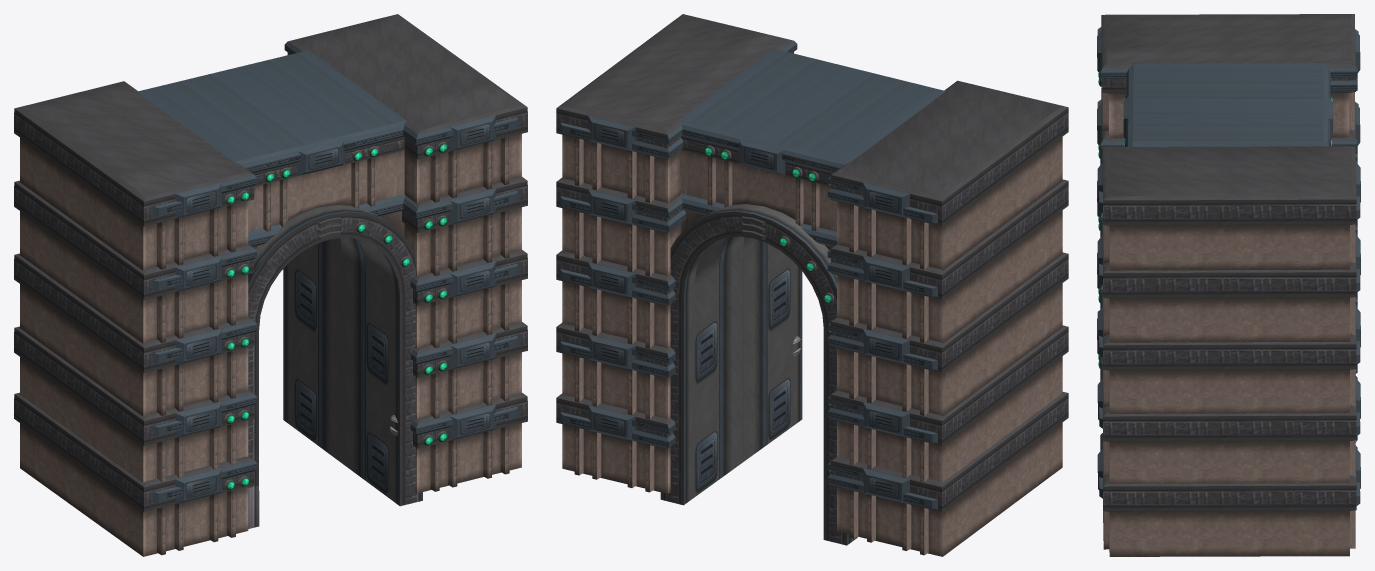
The model's file is portico.glb.
The picture shows the model from 3 angles, left to right: view 1: azimuth 30°, elevation 25°; view 2: azimuth 150°, elevation 25°; view 3: azimuth 270°, elevation 25°; orthographic projection.
Parts seen in each view (by area): view 1: Object_Ties.005; view 2: Object_Ties.005; view 3: Object_Ties.005.
Part boxes in pixels (box(x1,y1,x2,y2)): Object_Ties.005: box(14, 14, 527, 556); Object_Ties.005: box(556, 14, 1068, 556); Object_Ties.005: box(1097, 14, 1360, 556).
Size of the model in its own units: 44.02 by 40.75 by 26.32.
Materials: 21 (21 with a texture image).
